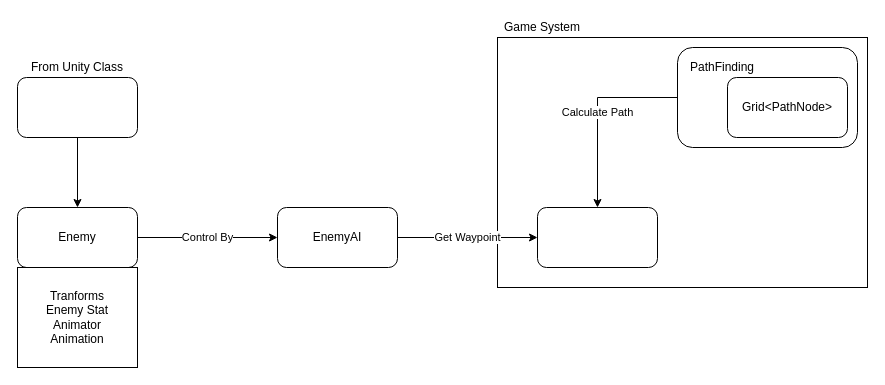
Image size: 885x385. Some labels were removed from this diagram. The shapes that lost their labels are listed below. From the top down, each one's box as (x1, y1, x2, y2) in pixels, then its label:
(16, 76, 138, 138): GameObject
(536, 206, 658, 268): Waypoints
